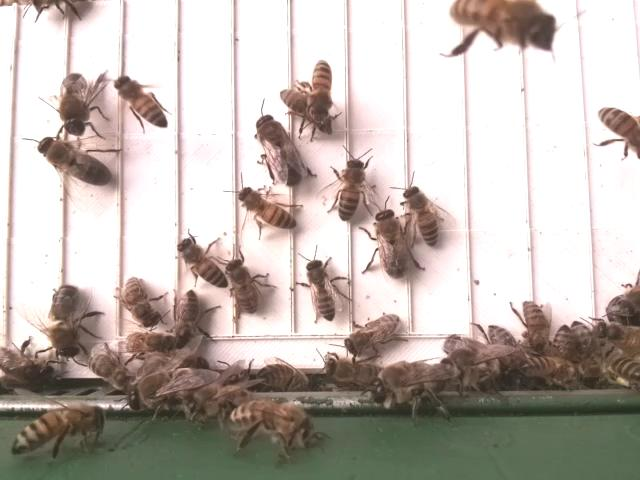Drone: (36, 135, 115, 187), (254, 113, 304, 187), (49, 283, 88, 363), (374, 206, 411, 281), (58, 70, 94, 138)
Worker: (111, 72, 169, 130), (236, 186, 300, 230), (175, 236, 228, 288), (280, 85, 336, 134), (403, 182, 441, 250), (344, 311, 402, 355), (122, 273, 165, 330), (334, 158, 365, 223), (225, 257, 260, 314), (596, 105, 640, 150), (305, 258, 336, 319), (521, 297, 551, 359), (121, 329, 181, 357), (173, 288, 201, 346), (309, 57, 333, 119)
